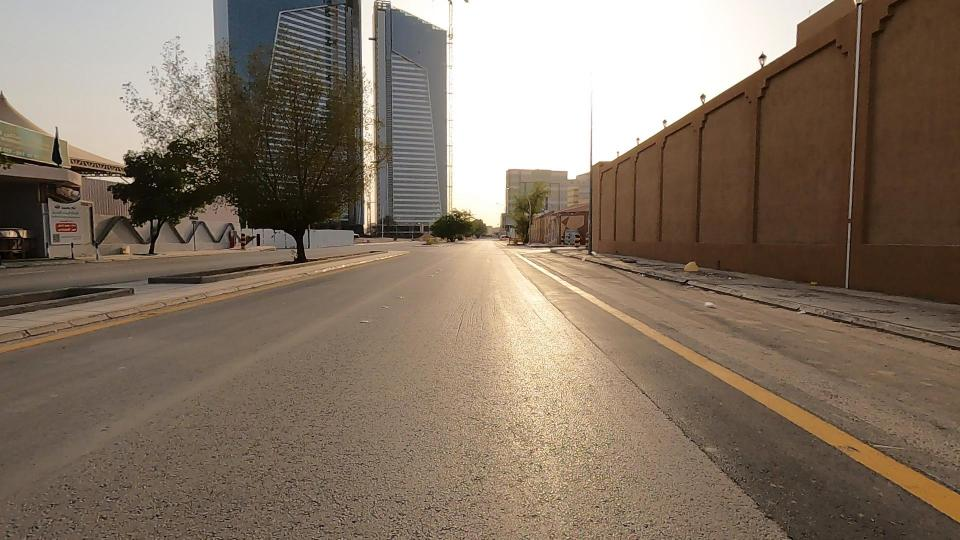GARBAGE: (669, 277, 762, 341), (657, 231, 720, 302)
